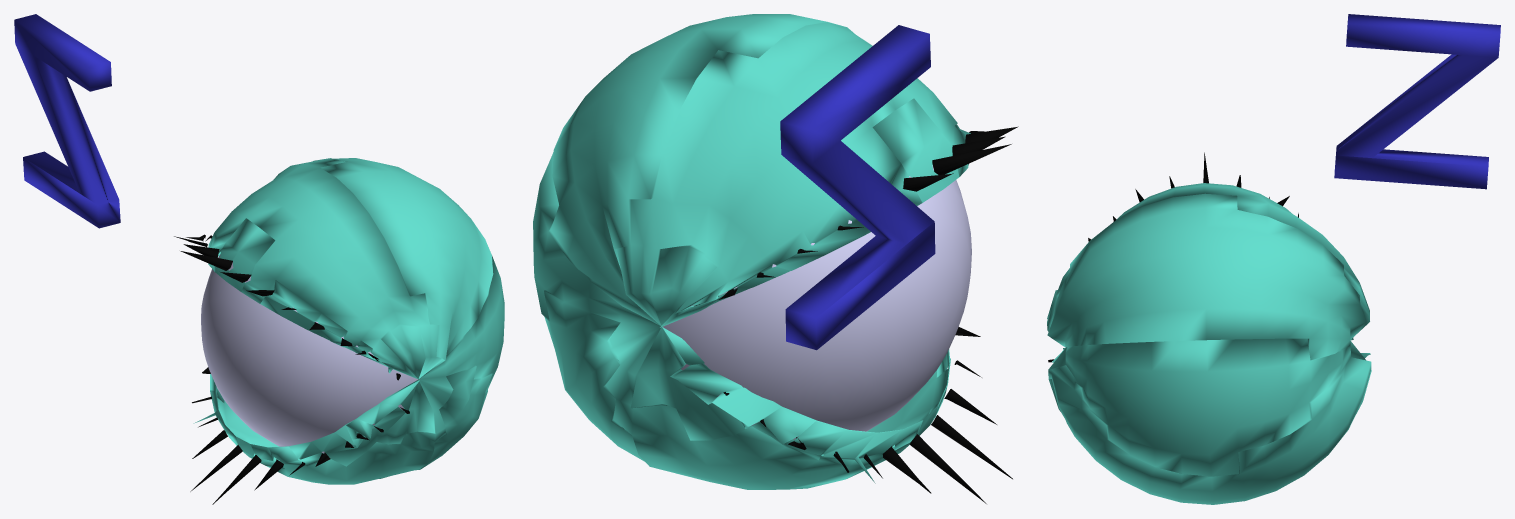
Rendered from Eye_Am_SLEEP_Babeh.fbx.
3 renders of one model, left to right at view 1: azimuth 30°, elevation 25°; view 2: azimuth 150°, elevation 25°; view 3: azimuth 270°, elevation 25°, orthographic. The views are drawn at different scales.
Visible parts, largest first — view 1: Eyelid, Eye.001, ZZ1; view 2: Eyelid, Eye.001, ZZ1; view 3: Eyelid, ZZ1.
Boxes of the visible parts, <box> form: Eyelid: <box>174,158,504,504</box>; Eye.001: <box>201,254,417,453</box>; ZZ1: <box>14,14,120,228</box>; Eyelid: <box>533,14,1018,503</box>; Eye.001: <box>663,165,971,439</box>; ZZ1: <box>780,25,935,350</box>; Eyelid: <box>1047,152,1371,504</box>; ZZ1: <box>1334,14,1500,189</box>.
Bounding box in the file's own units: 83.28 × 96.94 × 103.
